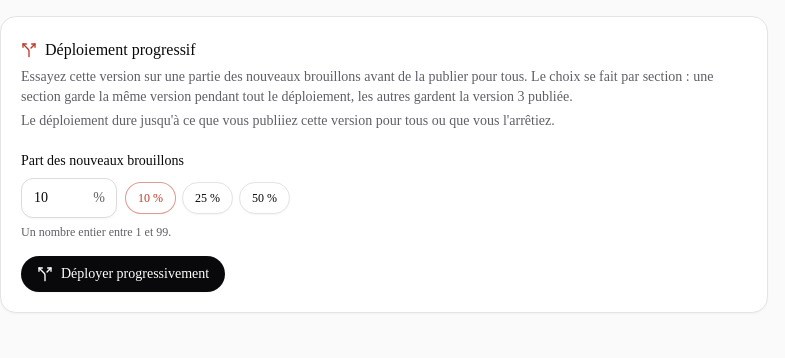
Test: StartRollout › shows the error the action returns
The image size is (785, 358).
Click the button "Déployer progressivement": (123,274) x1=21 y1=256 x2=225 y2=292
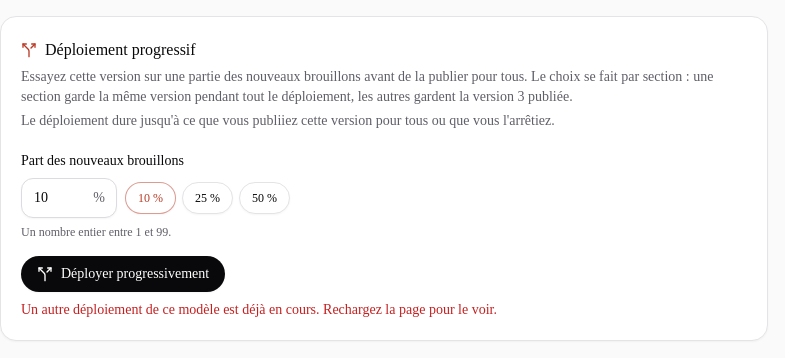
Expected: the text "Un autre déploiement de ce modèle est déjà en cours. Rechargez la page pour le voir." is shown, x1=21 y1=302 x2=497 y2=317
